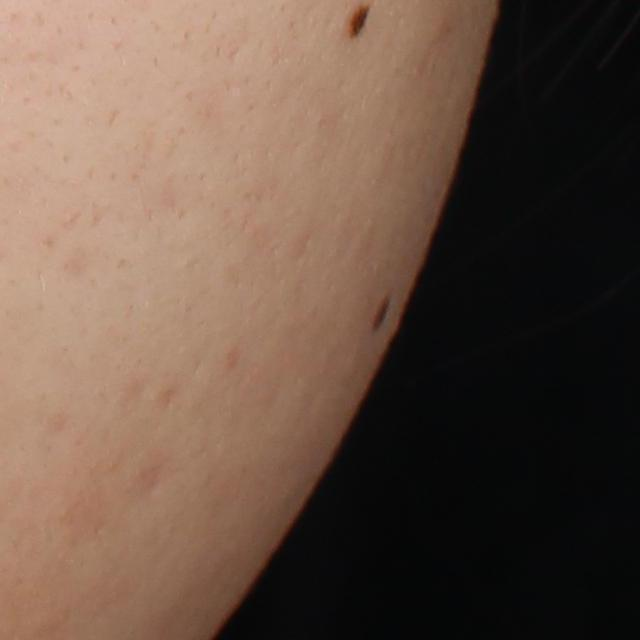atrophic_scar: (132, 460, 164, 501)
nevus: (347, 0, 376, 50), (370, 291, 393, 334)
